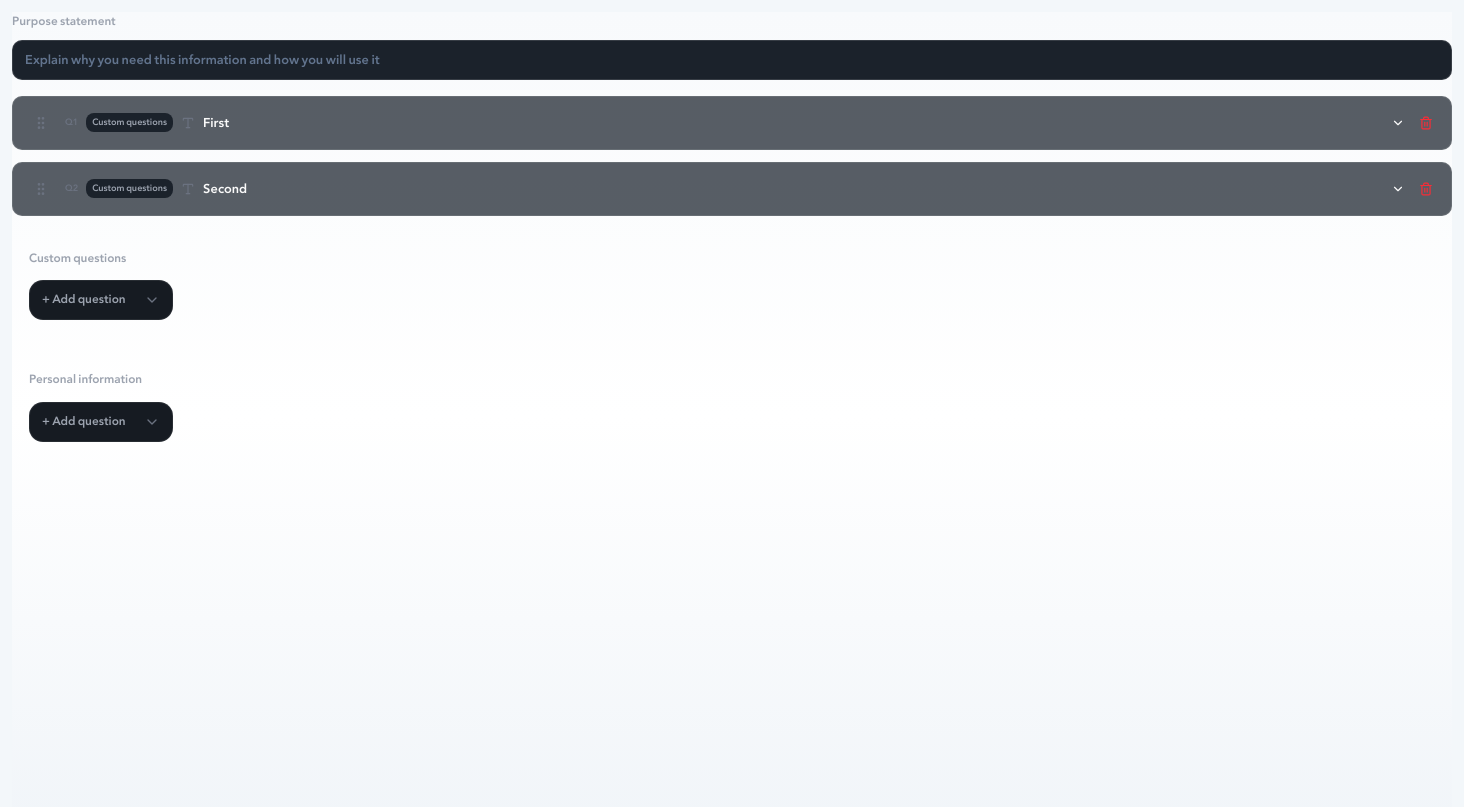
it: question authoring controls › has no placeholder option or selection, adds conditional questions and places requirements beside fields
Click the 1st button "+ Add question" at (101, 300), box [29, 280, 173, 320]
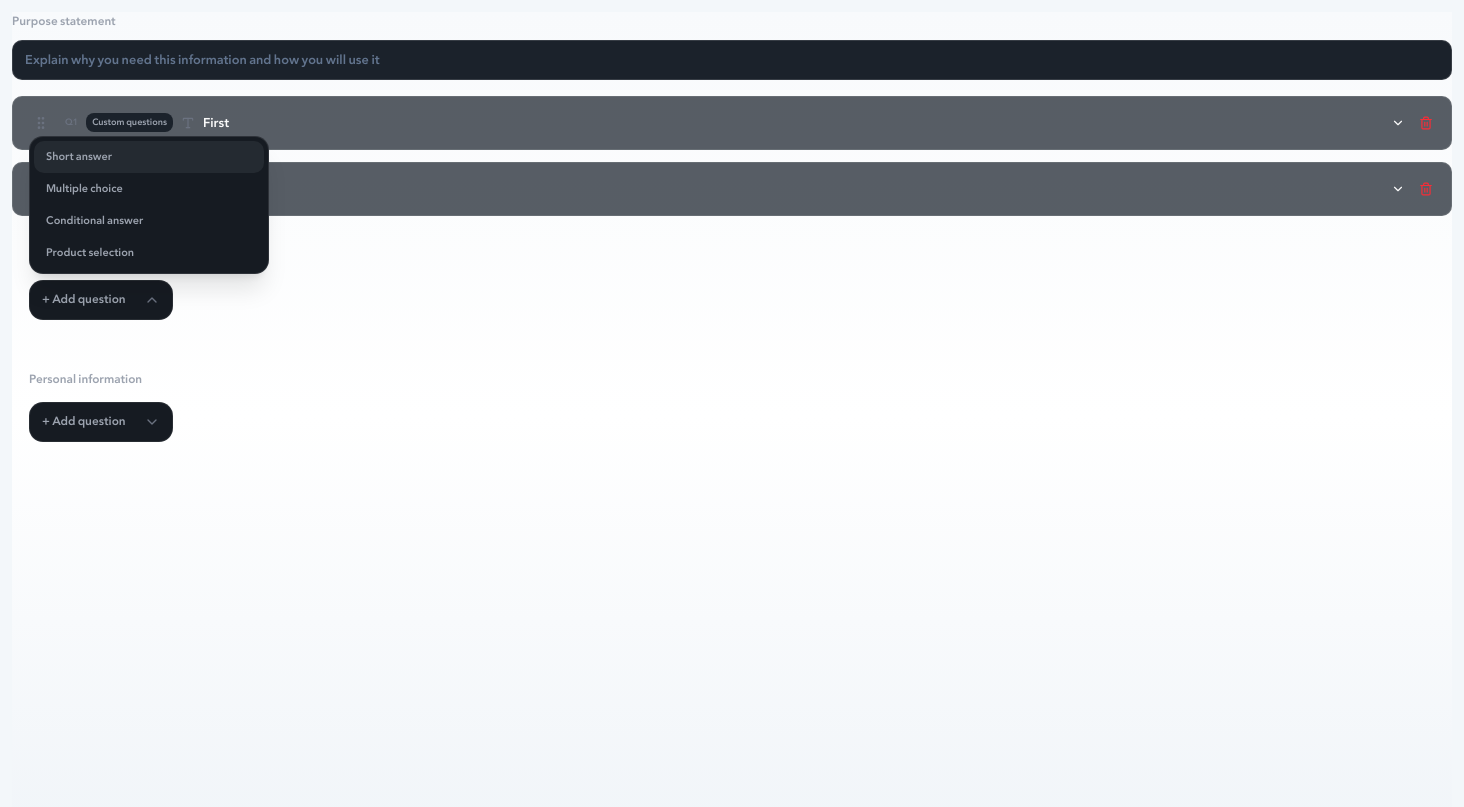
expect the number of options is 4: met
Click the option "Conditional answer" at (149, 221), box [34, 205, 264, 237]
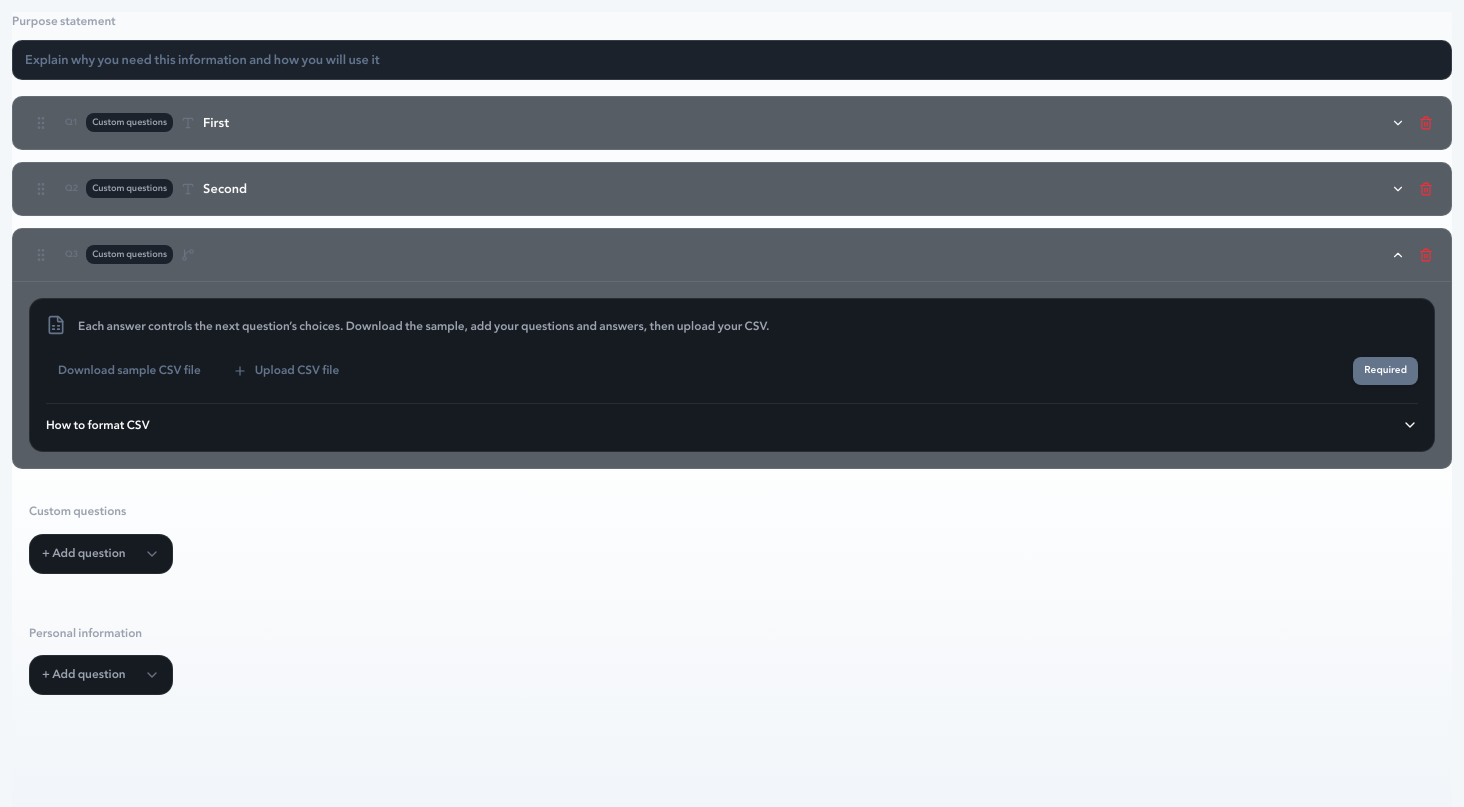
expect the link "Download sample CSV file" is shown: met, box [58, 360, 201, 381]
Click the text "First" at (216, 122), box [203, 112, 229, 134]
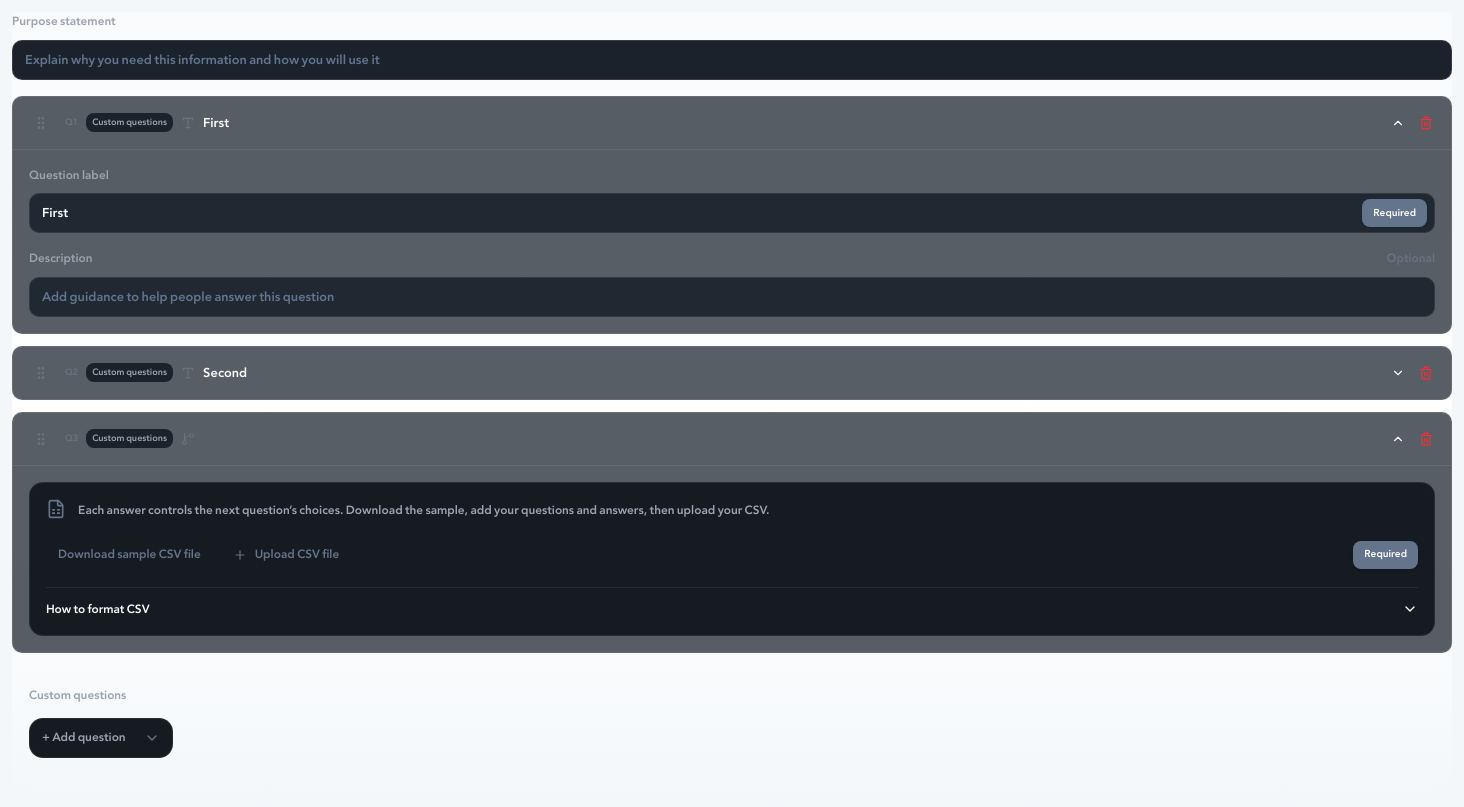
Click the button with aria-label "Required Q1" at (1395, 213), box [1362, 199, 1427, 227]
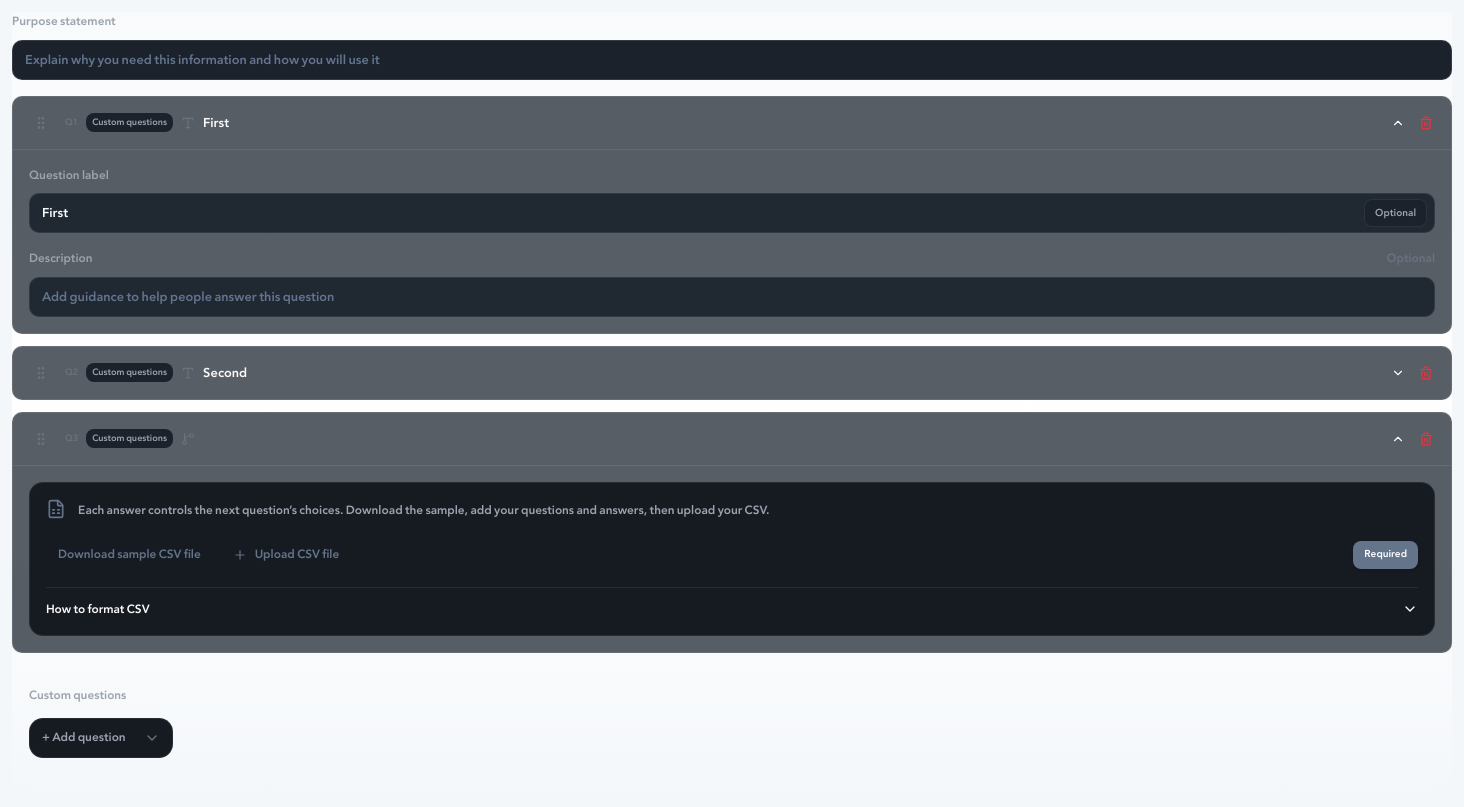
expect the button with aria-label "Required Q1" reads "Optional": met, box [1364, 199, 1427, 227]
